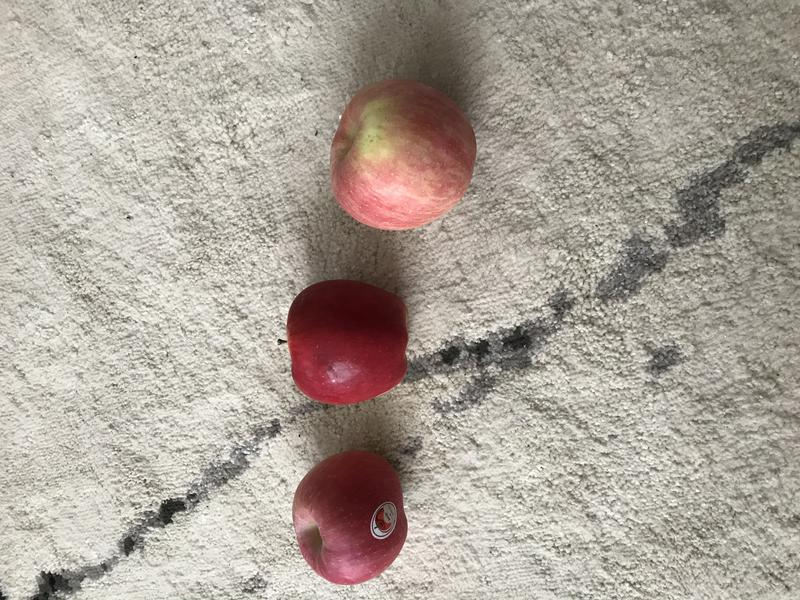red_apple: (324, 75, 480, 238), (280, 438, 420, 593), (281, 277, 414, 408)
